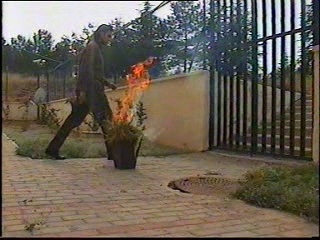fire: (106, 57, 155, 122)
